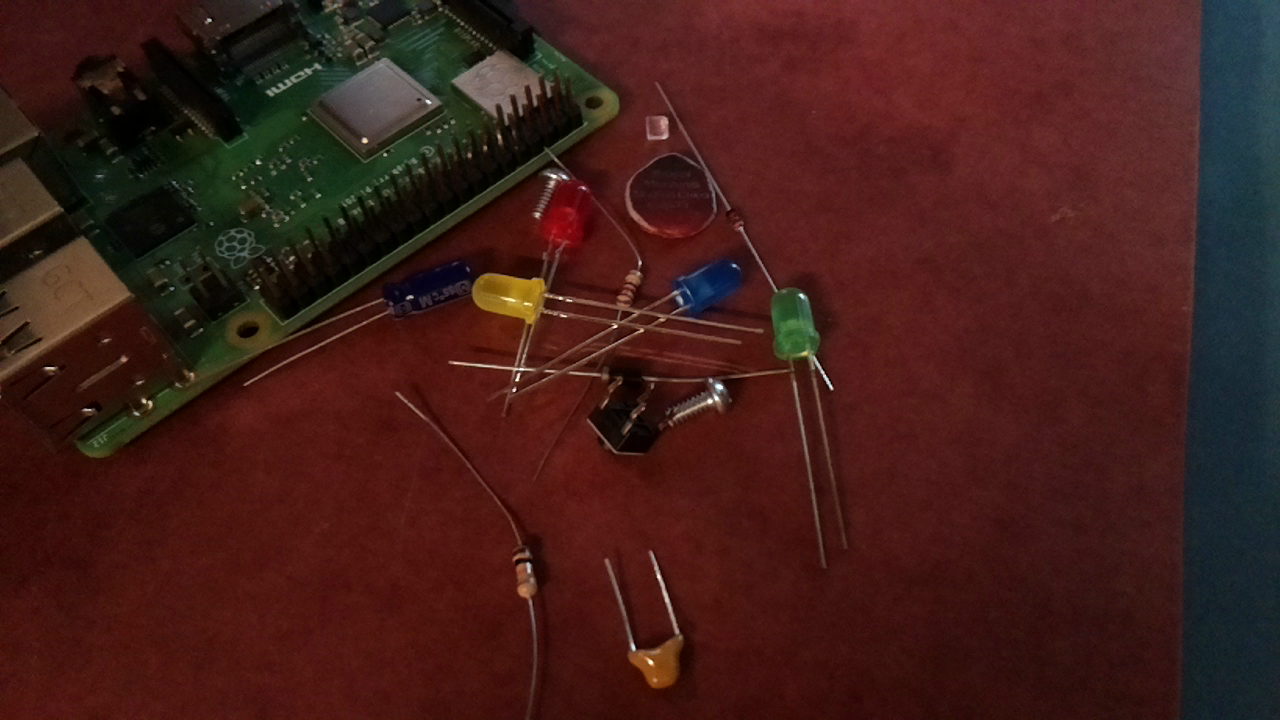button: (581, 401, 658, 463)
capacitor: (381, 249, 482, 322), (625, 634, 694, 694)
diode: (600, 358, 646, 391), (719, 202, 752, 240)
led: (467, 267, 551, 330), (767, 281, 827, 366), (670, 257, 747, 323), (539, 176, 592, 252)
resistor: (510, 544, 540, 603), (613, 266, 647, 315)
